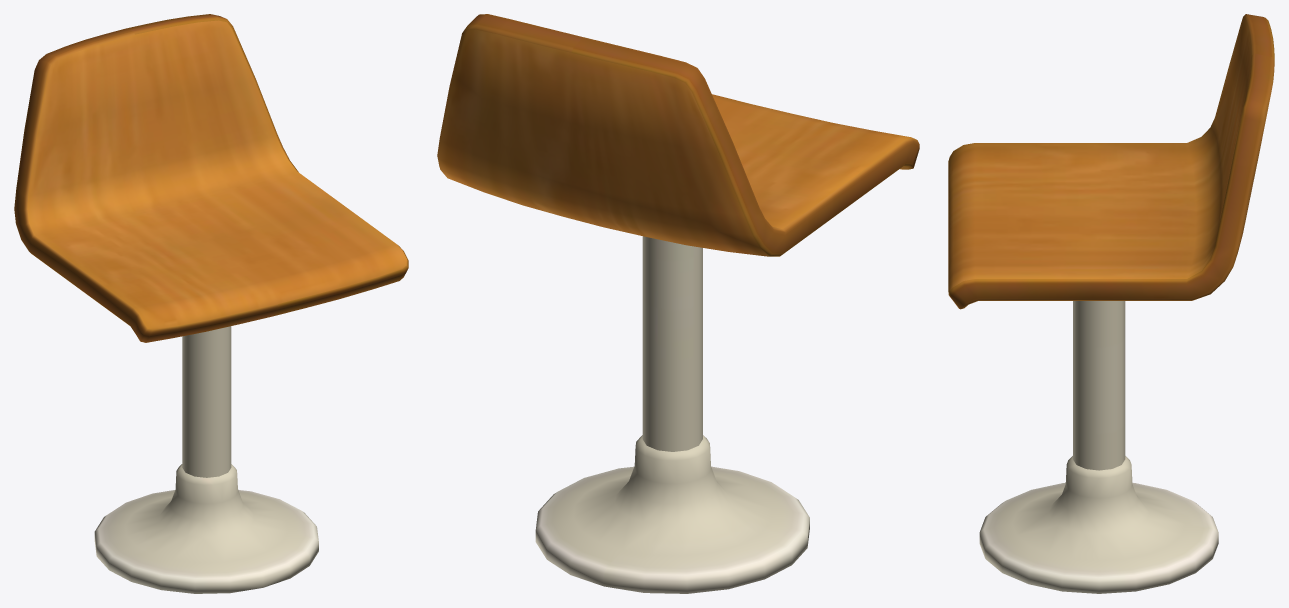
3 views of the same model, side by side, from view 1: azimuth 30°, elevation 25°; view 2: azimuth 150°, elevation 25°; view 3: azimuth 270°, elevation 25° (orthographic). The views are drawn at different scales.
Bounding box in the file's own units: 4.99 × 8.23 × 4.97.
Materials: 1 (1 with a texture image).
